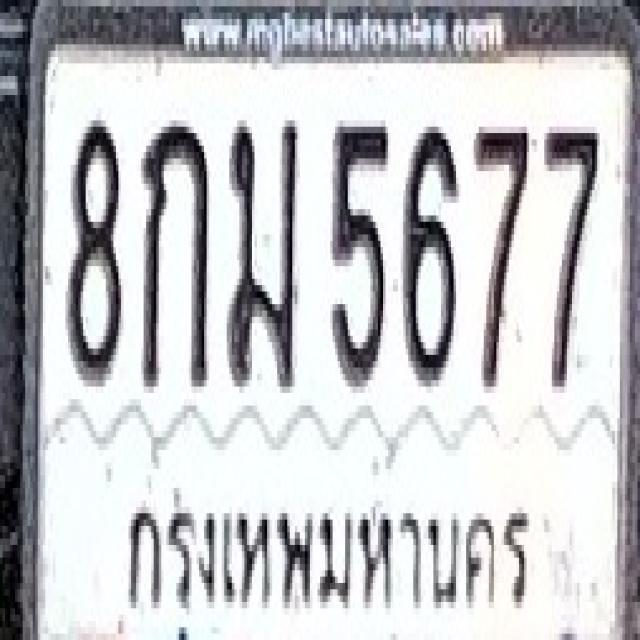5: (330, 120, 388, 387)
6: (402, 120, 457, 380)
7: (474, 120, 529, 387), (543, 123, 598, 390)
8: (65, 114, 121, 380)
A01: (141, 114, 209, 387)
A33: (227, 114, 297, 387)
BKK: (117, 464, 540, 640)
